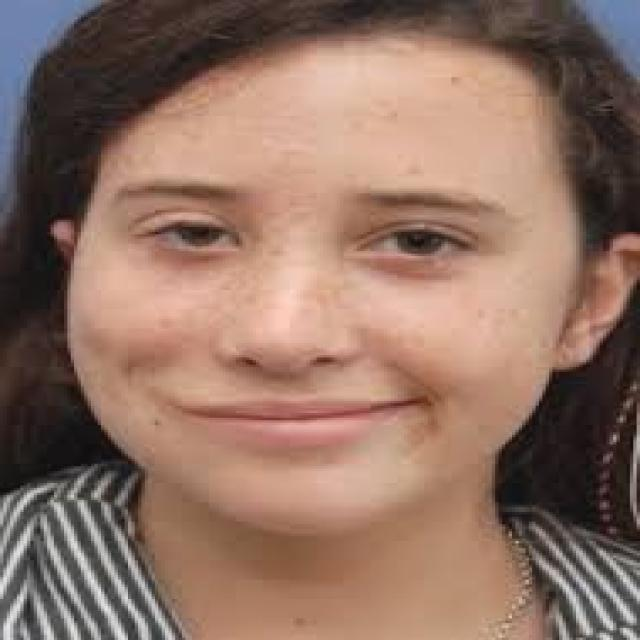normal_face: (31, 32, 588, 561)
